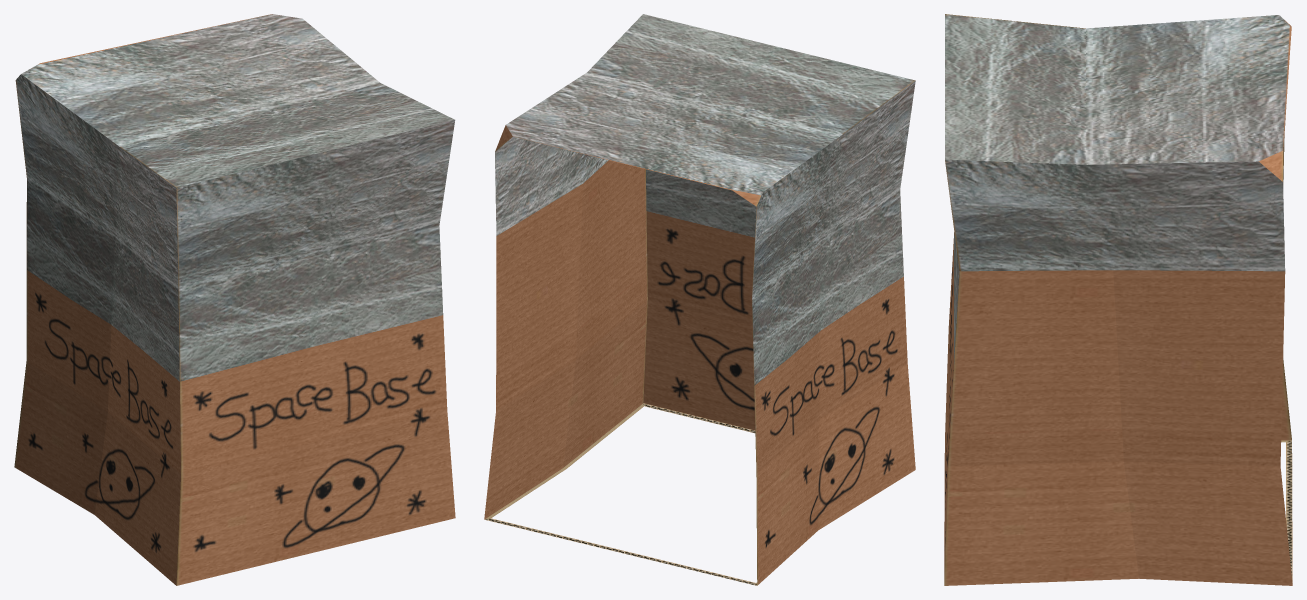
The model's file is BoxSpaceBase.FBX.
The picture shows the model from 3 angles, left to right: view 1: azimuth 30°, elevation 25°; view 2: azimuth 150°, elevation 25°; view 3: azimuth 270°, elevation 25°; orthographic projection. The views are drawn at different scales.
Visible parts, largest first — view 1: BoxSpaceBase; view 2: BoxSpaceBase; view 3: BoxSpaceBase.
Part boxes in pixels (x1,y1,x2,y2): BoxSpaceBase: (14, 14, 455, 585); BoxSpaceBase: (484, 14, 915, 585); BoxSpaceBase: (944, 14, 1292, 585).
Bounding box in the file's own units: 1.69 × 2.31 × 1.71.
